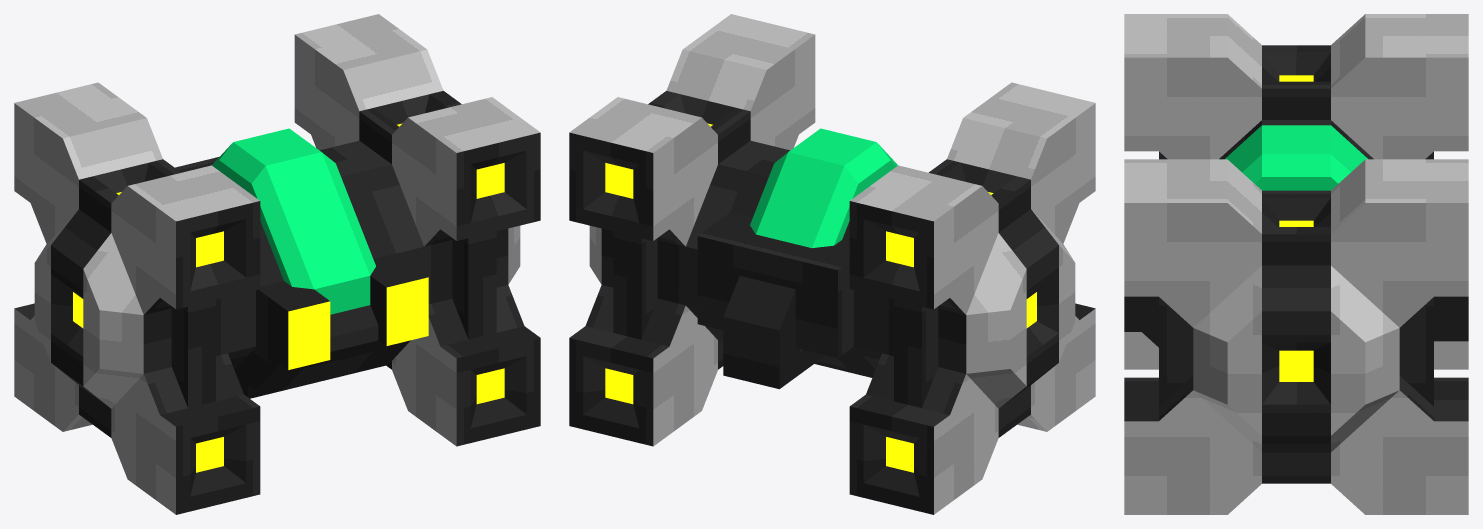
Rendered from enemy1.glb.
3 renders of one model, left to right at view 1: azimuth 30°, elevation 25°; view 2: azimuth 150°, elevation 25°; view 3: azimuth 270°, elevation 25°, orthographic. The views are drawn at different scales.
Visible parts, largest first — view 1: SpaceCar_0; view 2: SpaceCar_0; view 3: SpaceCar_0.
Boxes of the visible parts, x1=… form: SpaceCar_0: x1=14, y1=14, x2=540, y2=514; SpaceCar_0: x1=569, y1=14, x2=1095, y2=514; SpaceCar_0: x1=1124, y1=14, x2=1468, y2=514.
Size of the model in its own units: 0.6 by 0.4 by 0.4.
1 material, 1 textured.
